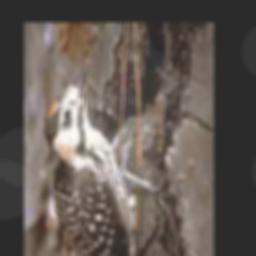Woodpecker: (45, 45, 158, 256)
